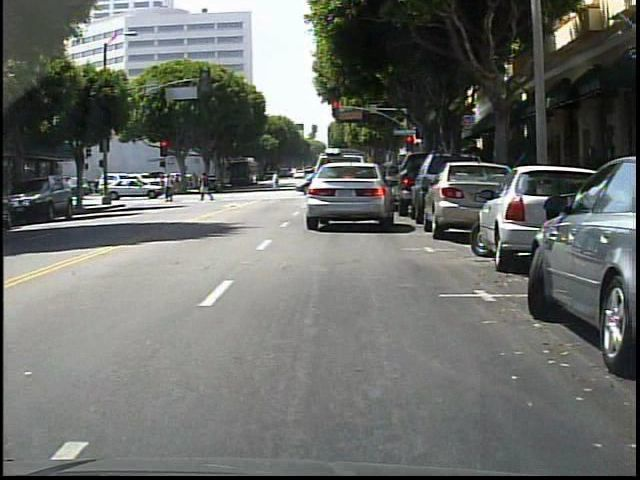person: (200, 171, 215, 201), (163, 174, 178, 203), (271, 170, 280, 191)
